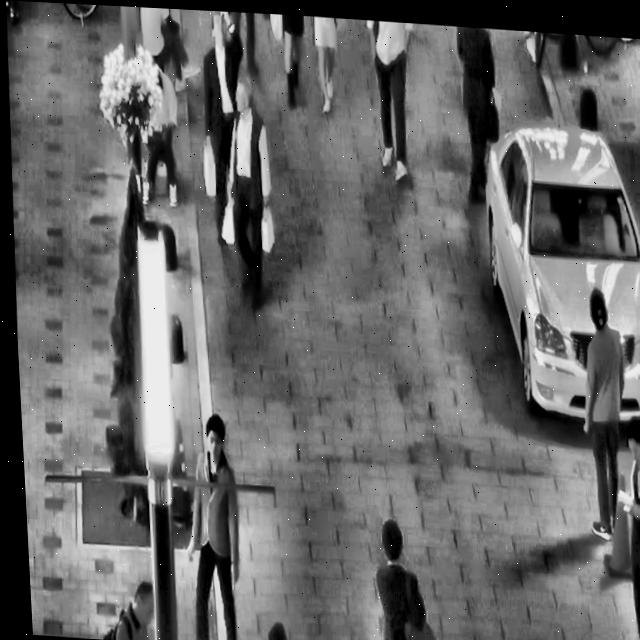light_vehicle: (469, 95, 640, 428)
